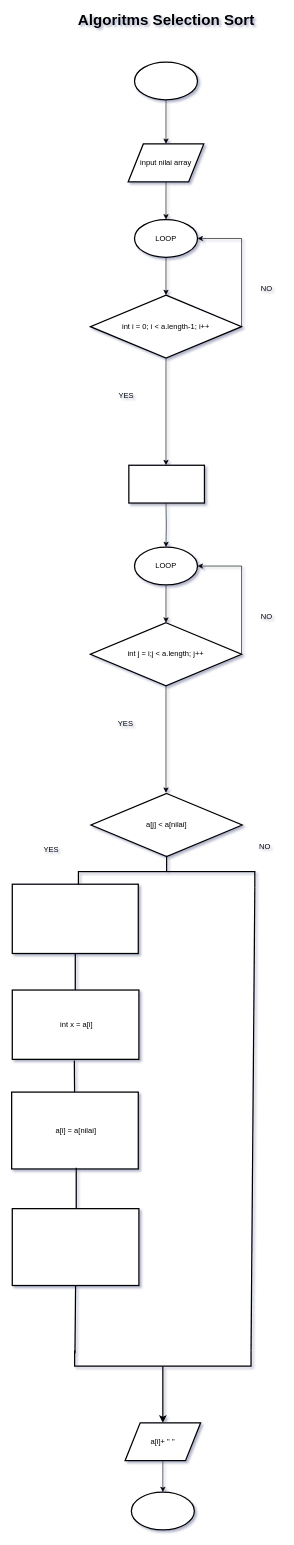
Image size: 294x1545. Some labels were removed from this diagram. The shapes that lost their labels are listed below. From the top down, each one's centre as x and y in pixels, then its label:
At (x=166, y=80): "START".
At (x=166, y=483): "int nilai = i".
At (x=75, y=918): "nilai = j".
At (x=75, y=1247): "a[nilai] = x".
At (x=162, y=1510): "END".
